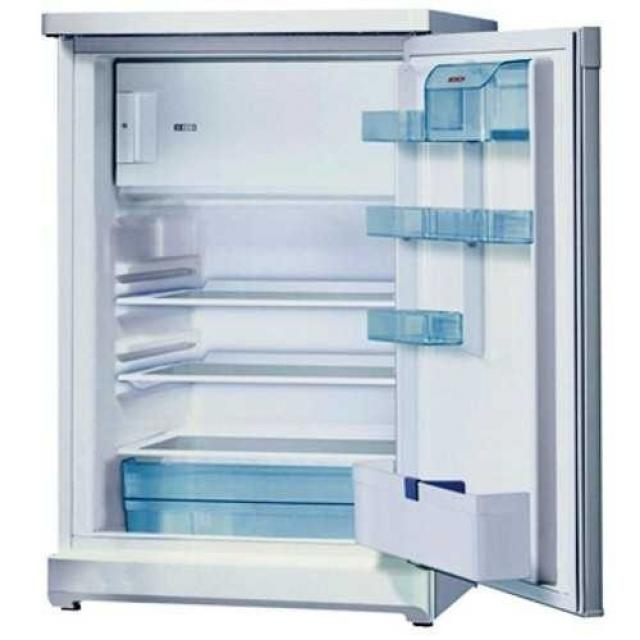refrigerator: (42, 11, 598, 615)
